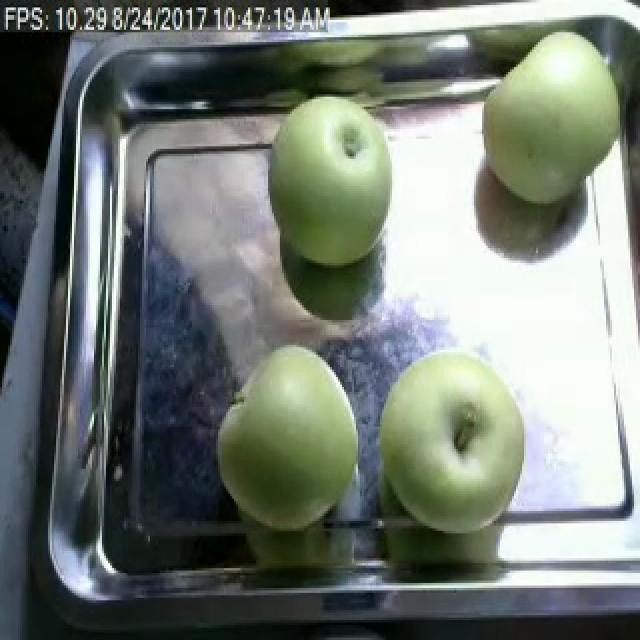50-_ripeness: (196, 317, 375, 542), (467, 20, 640, 226), (254, 64, 410, 278), (374, 349, 533, 535)
